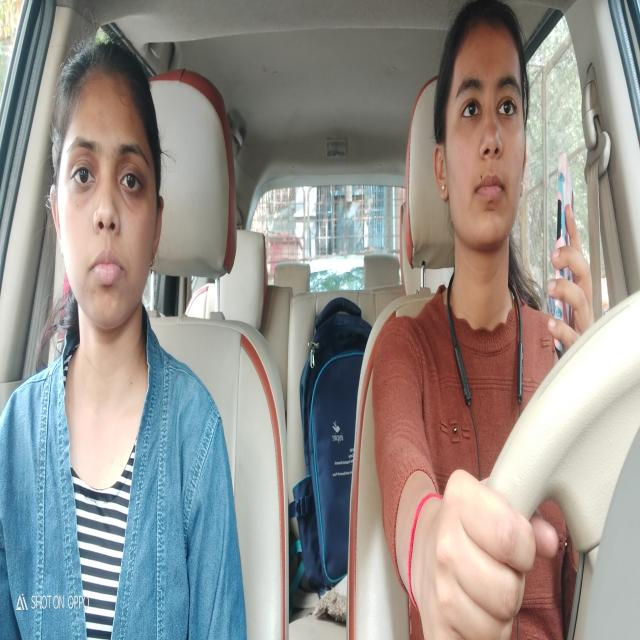mobile: (551, 144, 573, 372)
person: (46, 23, 166, 364), (431, 0, 536, 294)
